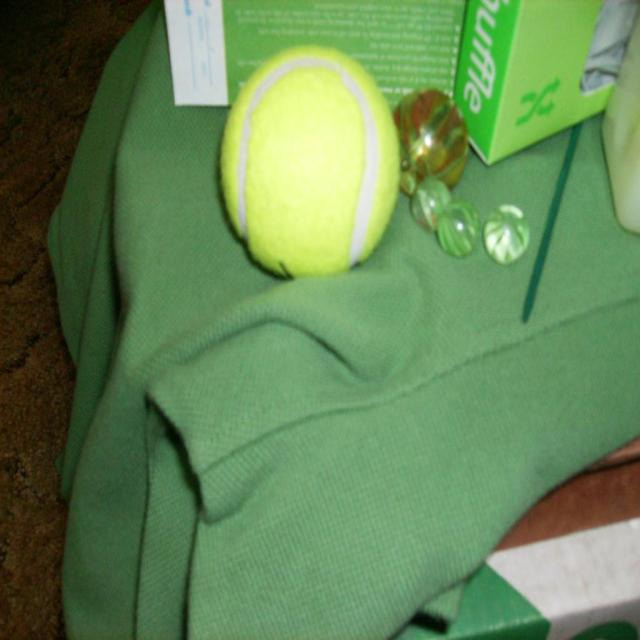Tennis ball: (220, 45, 401, 278)
